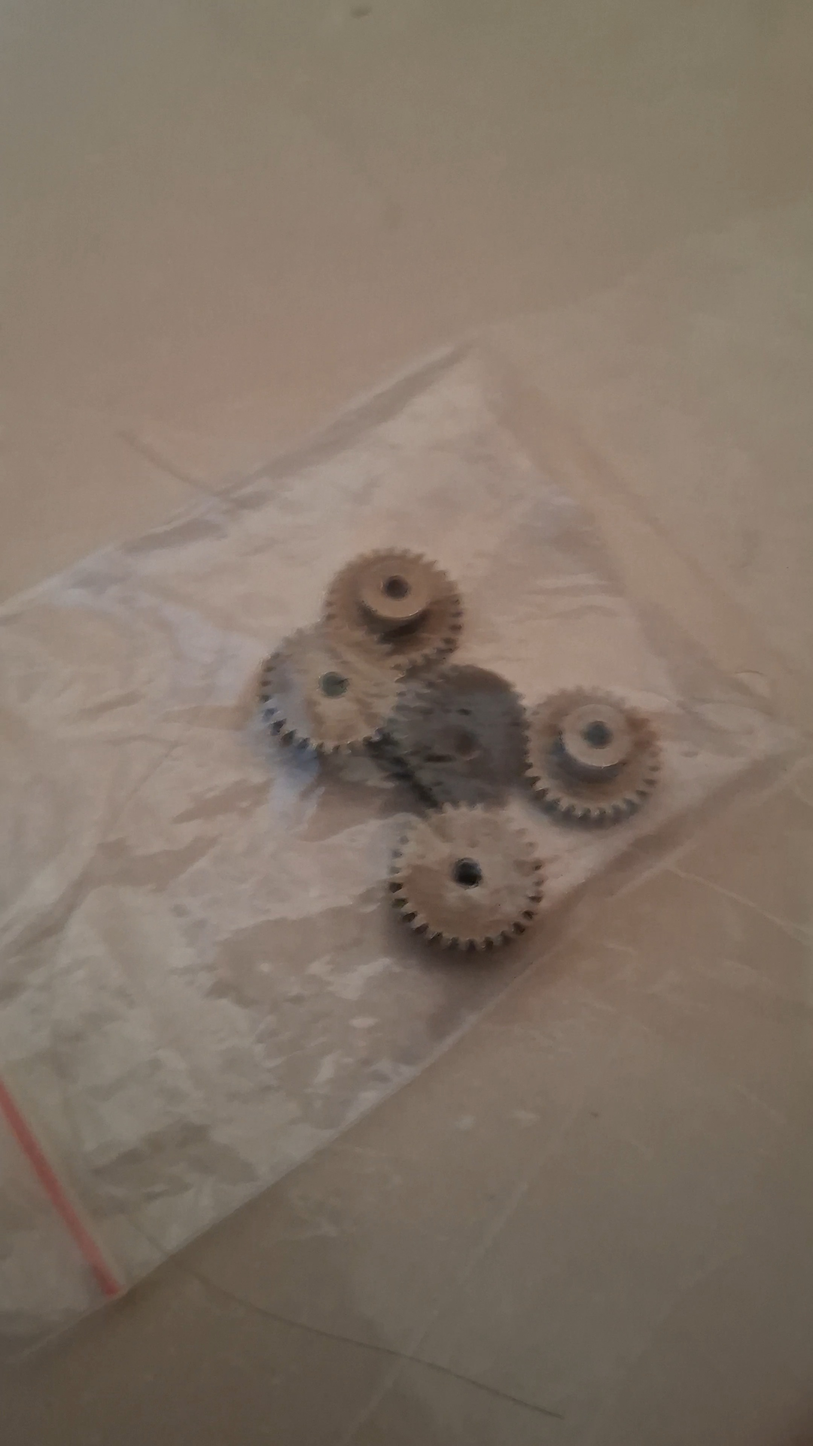spur gear: (390, 805, 542, 950), (387, 665, 525, 804), (527, 690, 660, 824), (259, 628, 400, 754), (324, 549, 462, 671)
